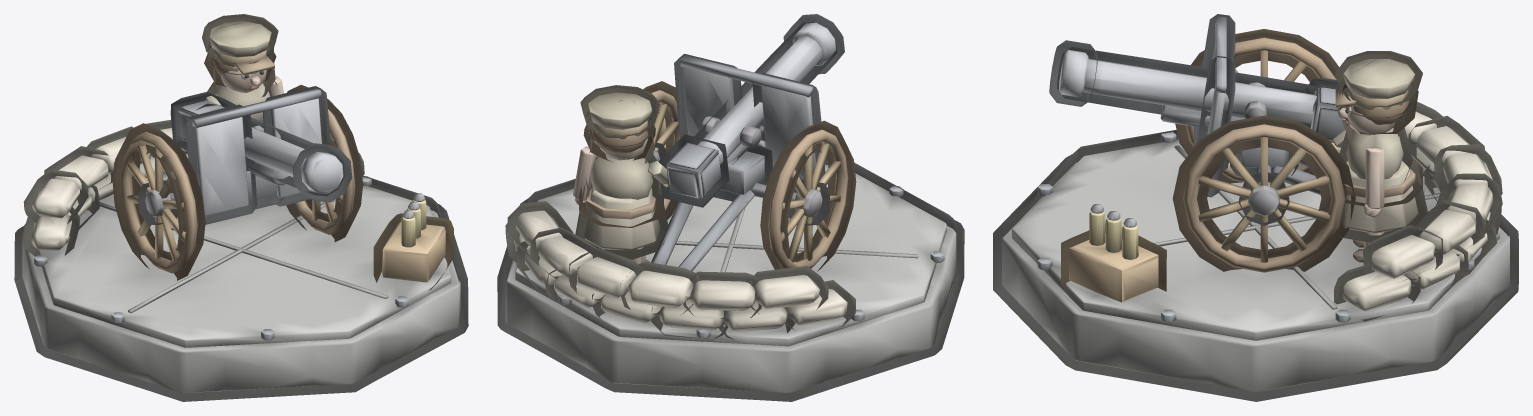
Rendered from field_gun.glb.
3 renders of one model, left to right at view 1: azimuth 30°, elevation 25°; view 2: azimuth 150°, elevation 25°; view 3: azimuth 270°, elevation 25°, orthographic. The views are drawn at different scales.
Parts seen in each view (by area): view 1: M_FieldGun, M_Yaw, M_FieldGun_Outline, M_Yaw_Outline, M_Body, M_Arm, M_Arm_Outline, M_Body_Outline; view 2: M_FieldGun, M_Yaw, M_FieldGun_Outline, M_Body, M_Yaw_Outline, M_Arm, M_Body_Outline, M_Arm_Outline; view 3: M_FieldGun, M_FieldGun_Outline, M_Yaw, M_Yaw_Outline, M_Body, M_Arm, M_Arm_Outline, M_Body_Outline.
Part boxes in pixels (x1,y1,x2,y2): M_FieldGun: (22, 128, 460, 393); M_Yaw: (120, 88, 355, 273); M_FieldGun_Outline: (14, 120, 468, 401); M_Yaw_Outline: (112, 85, 363, 280); M_Body: (209, 21, 284, 121); M_Arm: (178, 100, 343, 193); M_Arm_Outline: (170, 91, 352, 202); M_Body_Outline: (202, 14, 278, 97); M_FieldGun: (505, 117, 956, 392); M_Yaw: (651, 55, 848, 271); M_FieldGun_Outline: (497, 157, 964, 401); M_Body: (573, 92, 660, 264); M_Yaw_Outline: (643, 54, 856, 271); M_Arm: (666, 22, 836, 199); M_Body_Outline: (574, 85, 667, 259); M_Arm_Outline: (658, 14, 844, 207); M_FieldGun: (1002, 111, 1509, 391); M_FieldGun_Outline: (993, 102, 1518, 401); M_Yaw: (1183, 16, 1424, 272); M_Yaw_Outline: (1172, 14, 1355, 271); M_Body: (1335, 59, 1418, 262); M_Arm: (1058, 50, 1344, 140); M_Arm_Outline: (1049, 40, 1338, 142); M_Body_Outline: (1335, 51, 1428, 242).
Size of the model in its own units: 3.18 by 1.72 by 3.18.
